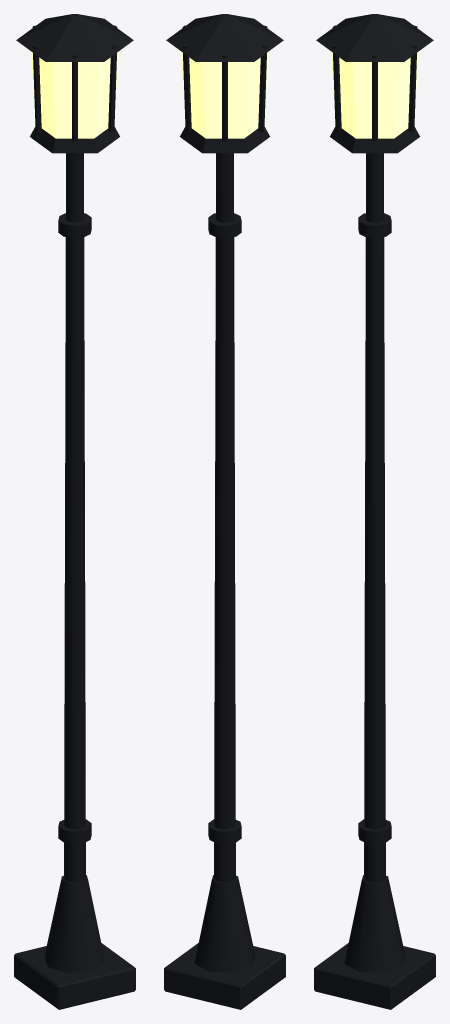
Rendered from street_lamp.glb.
3 views of the same model, side by side, from view 1: azimuth 30°, elevation 25°; view 2: azimuth 150°, elevation 25°; view 3: azimuth 330°, elevation 25° (orthographic).
Visible parts, largest first — view 1: street_lamp; view 2: street_lamp; view 3: street_lamp.
Boxes of the visible parts, <box> form: street_lamp: <box>14,14,135,1009</box>; street_lamp: <box>164,14,285,1009</box>; street_lamp: <box>314,14,435,1009</box>.
Bounding box in the file's own units: 0.4503 × 4.72 × 0.52.
